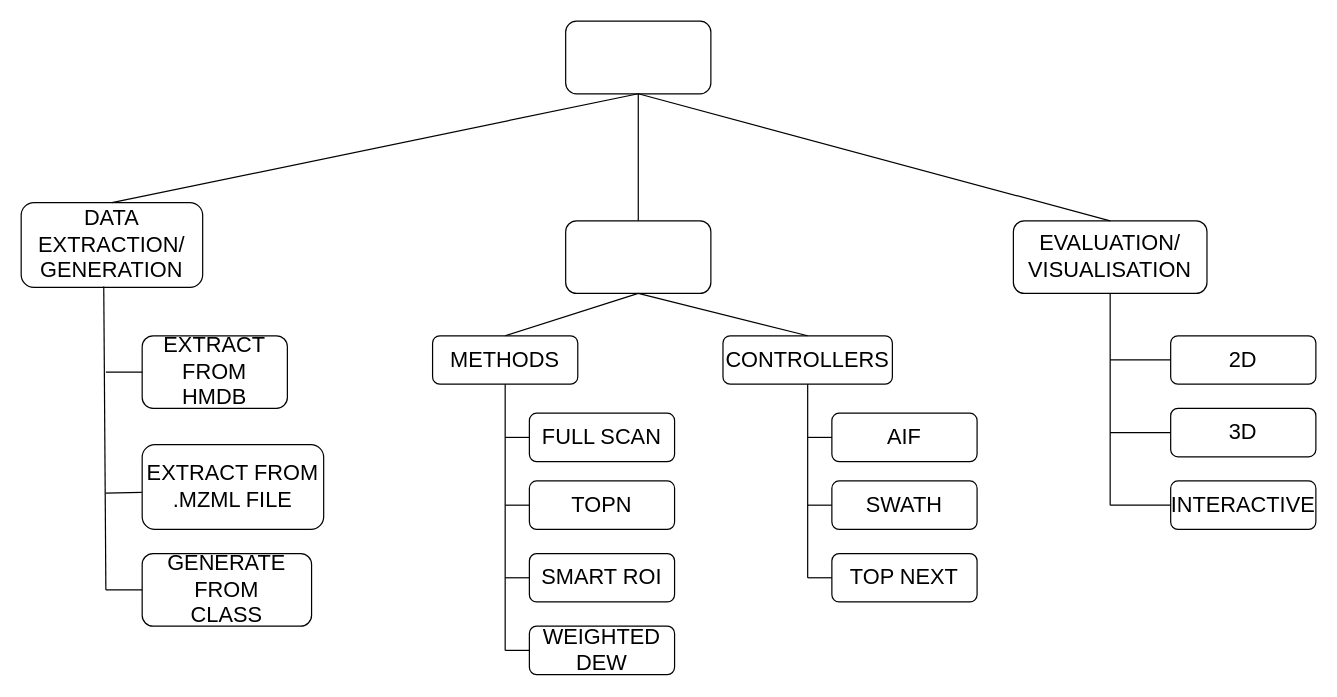
The diagram is 1337 pixels wide and 697 high, and some of its shapes have lost their labels. The box of each missing label's shape, as (x1, y1, x2, y2) in pixels:
EXPERIMENT SIMULATION: (564, 220, 711, 293)
HOME: (564, 20, 711, 94)
